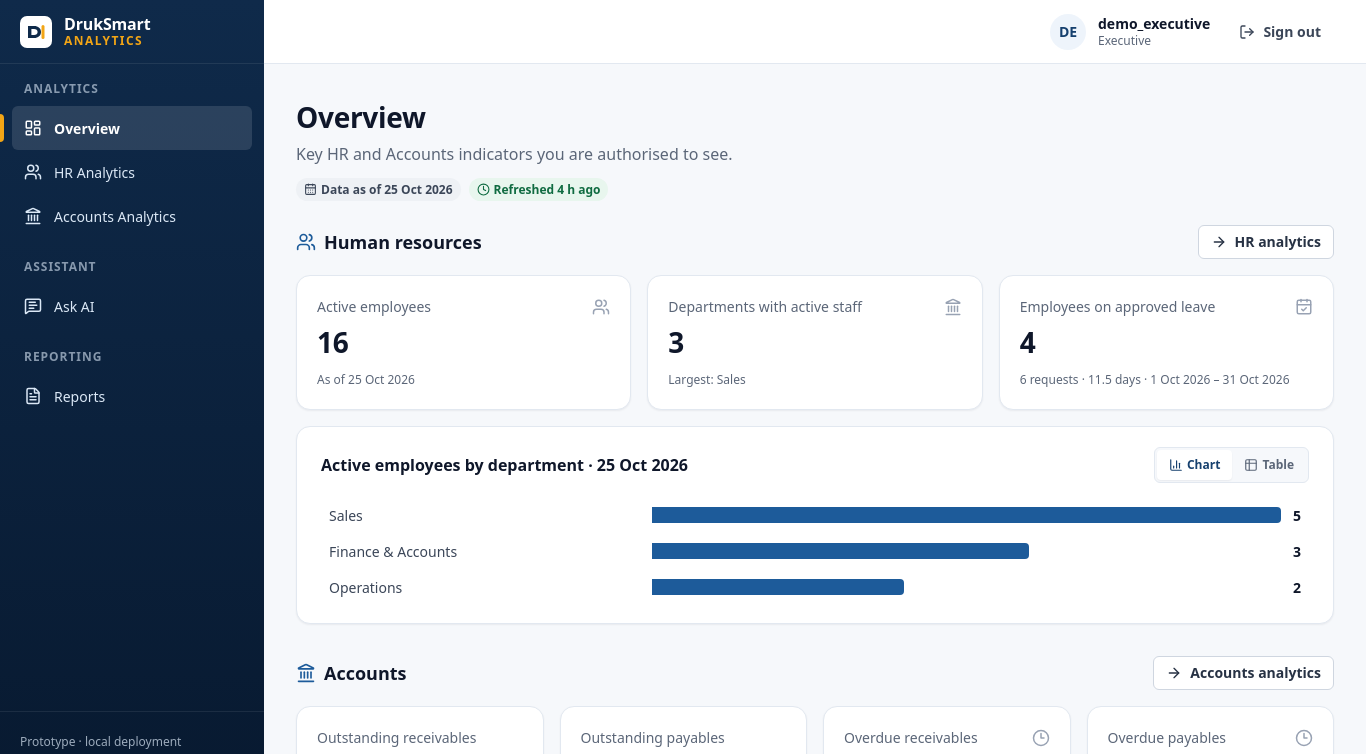
Scenario: routing › navigates with the sidebar and highlights the current page
Check: the heading "Overview" is shown, box top-left (296, 98), bottom-right (426, 136)
Click the link "Accounts Analytics" at x=100, y=216, box top-left (24, 206), bottom-right (176, 226)
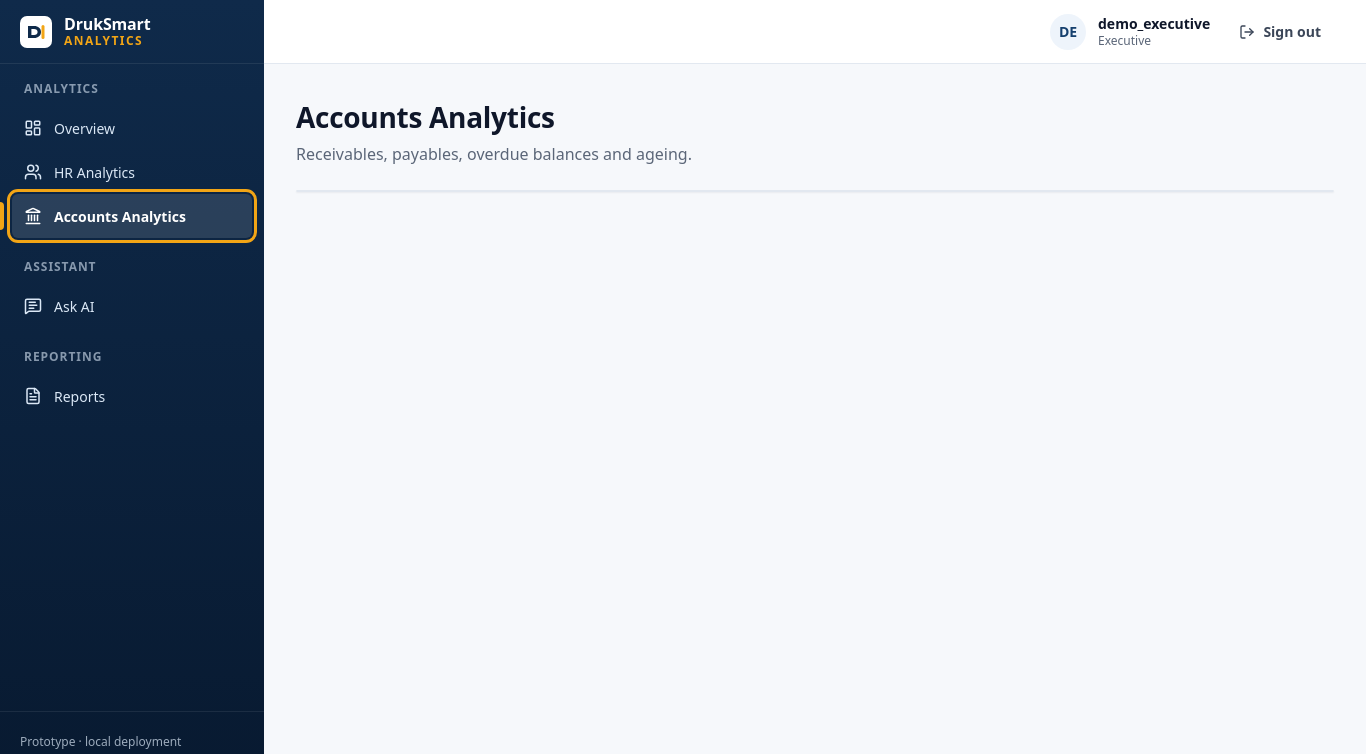
Check: the heading "Accounts Analytics" is shown, box top-left (296, 98), bottom-right (555, 136)
